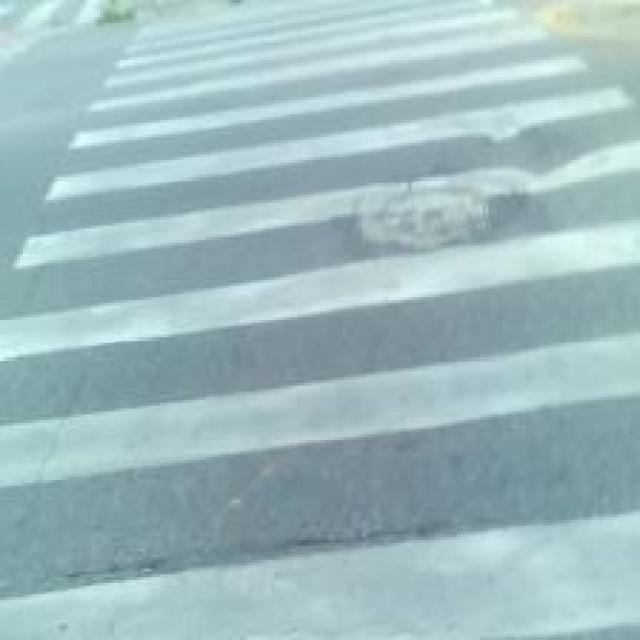walk-crossing: (103, 40, 571, 640)
